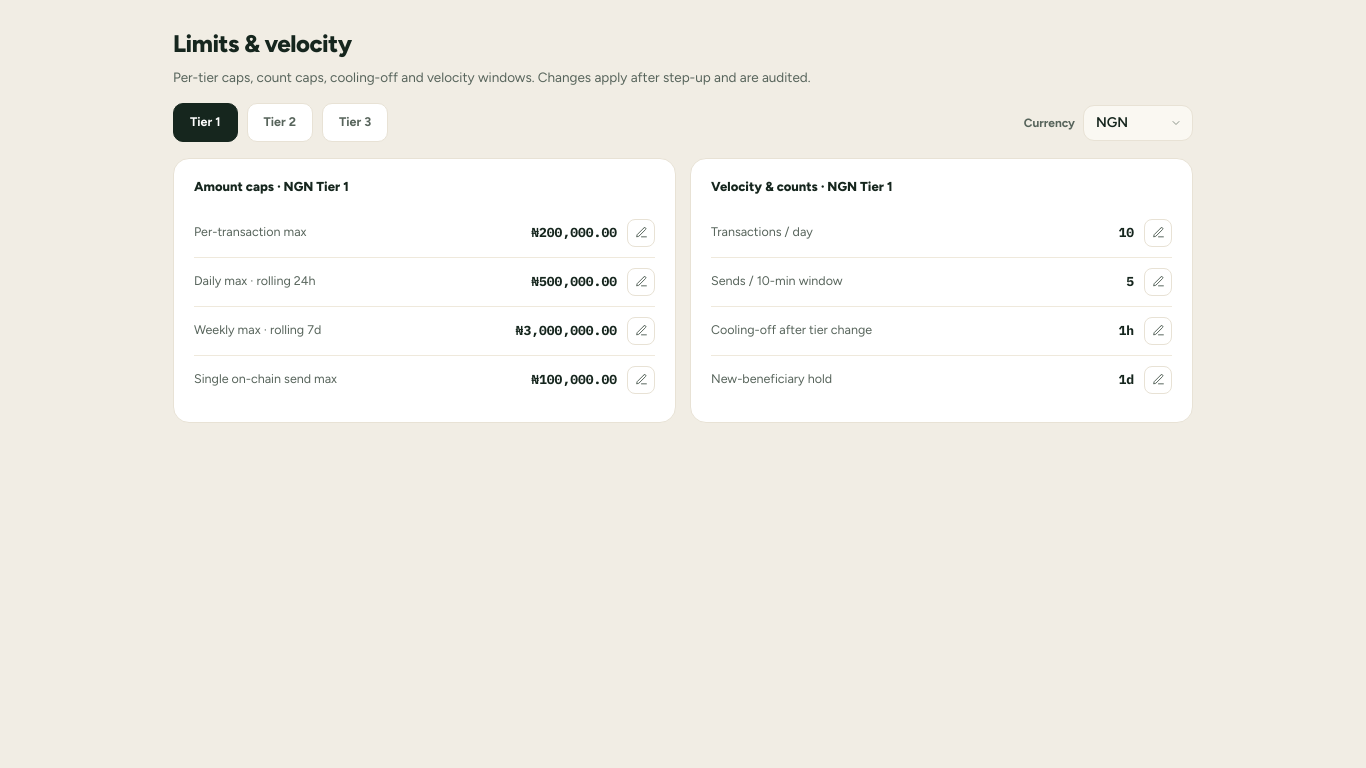
Test: LimitsPage (four-eyes tier_override) › raises a tier_override ChangeRequest (not a direct setSetting) when submitted
Click the button named "Edit Per-transaction max" at (641, 232), box [627,218,655,246]
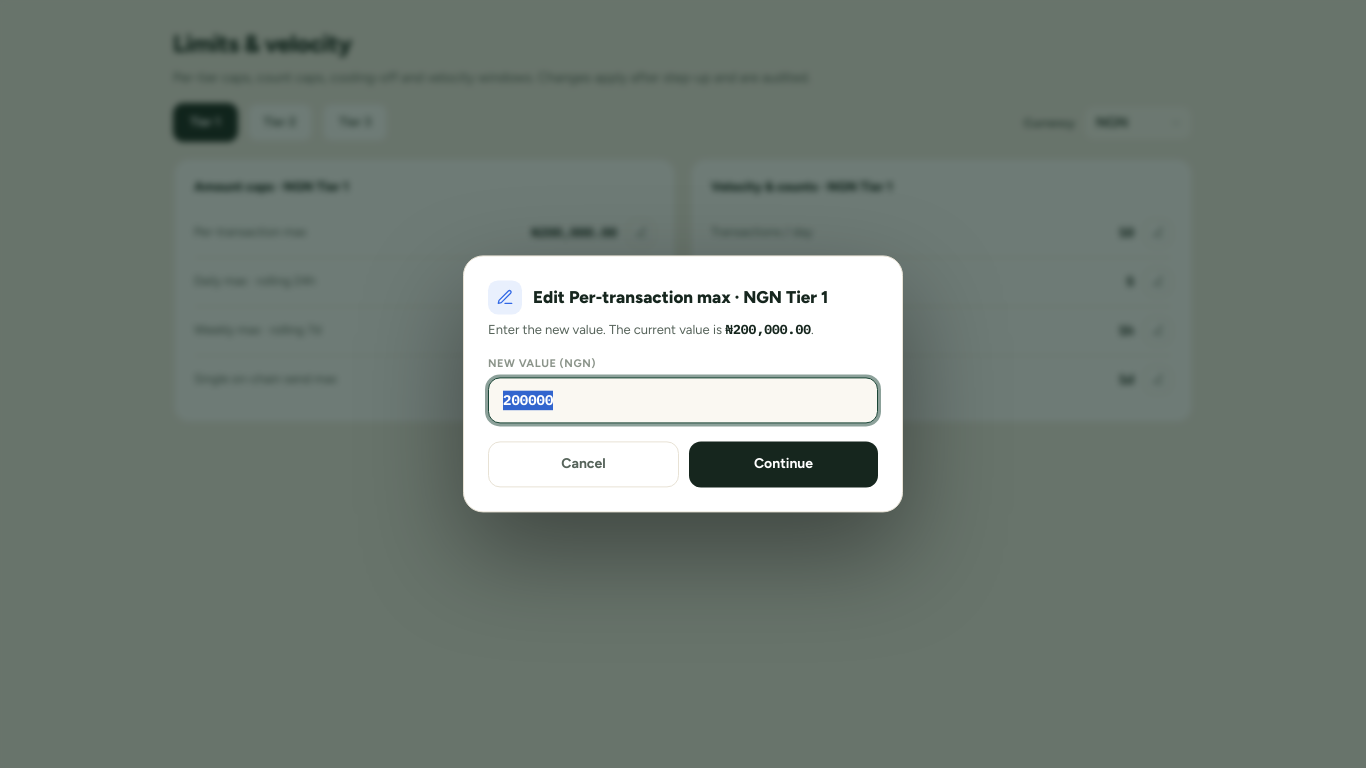
Replace the text in the field labelled "New value (NGN)" with "300000" at (683, 401), box [488,378,878,424]
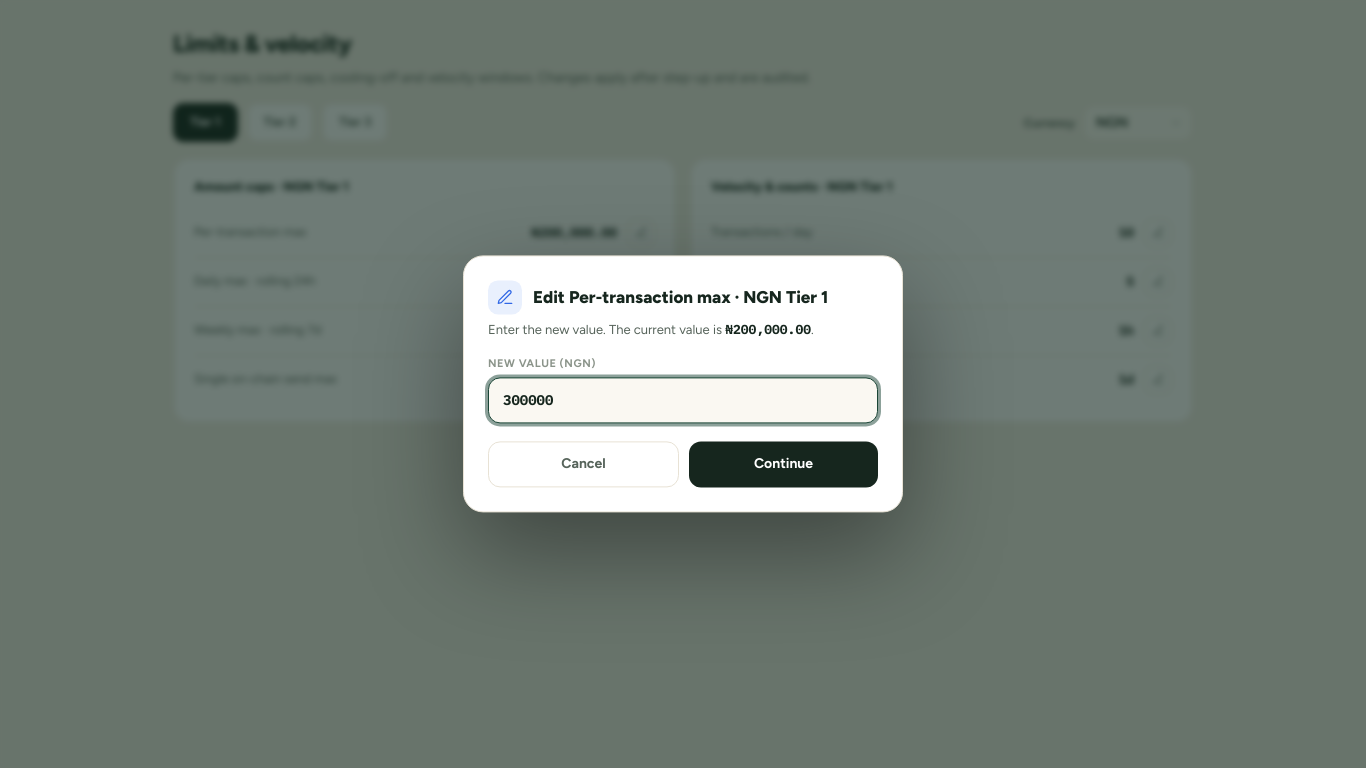
Click the button "Continue" at (784, 465), box [689,442,878,488]
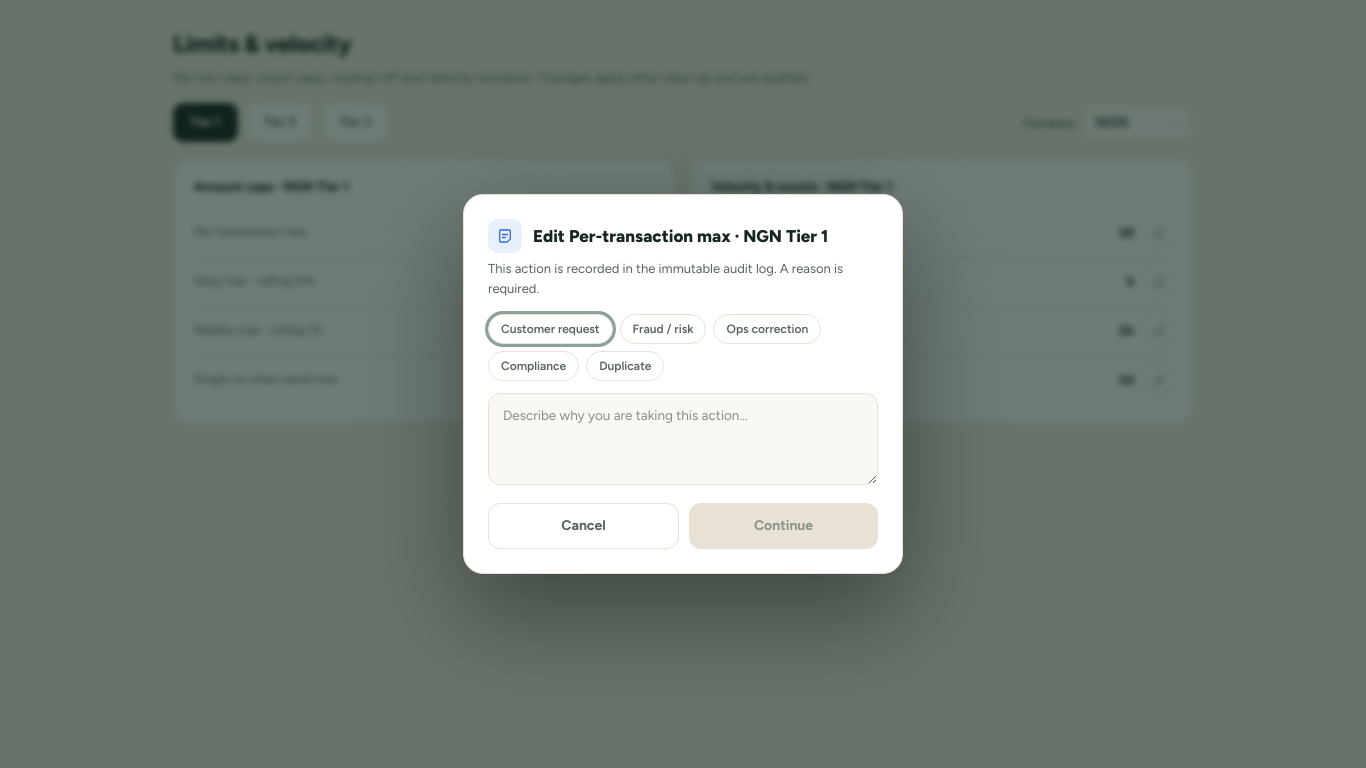
Type "Ops correction" into the text box named "Reason" at (683, 439), box [488,393,878,485]
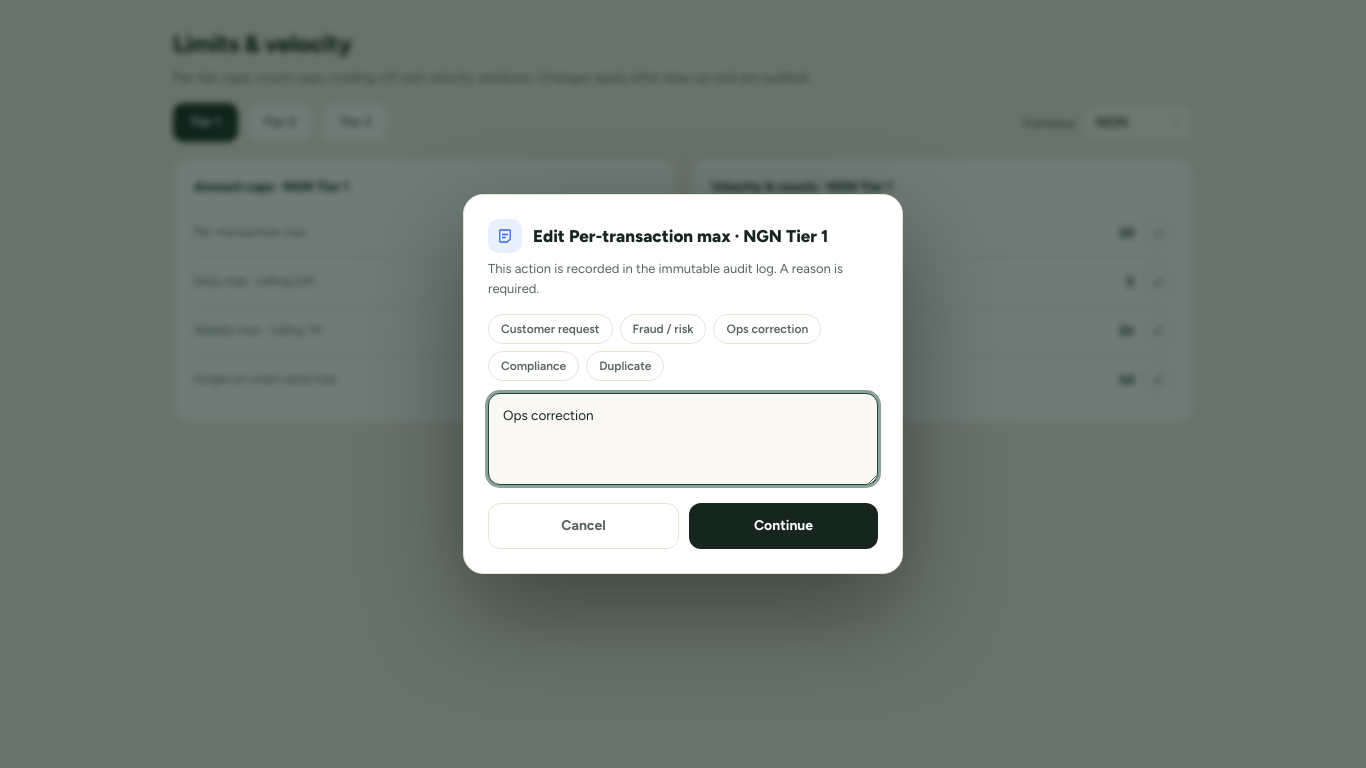
Click the button "Continue" at (784, 526), box [689,503,878,549]
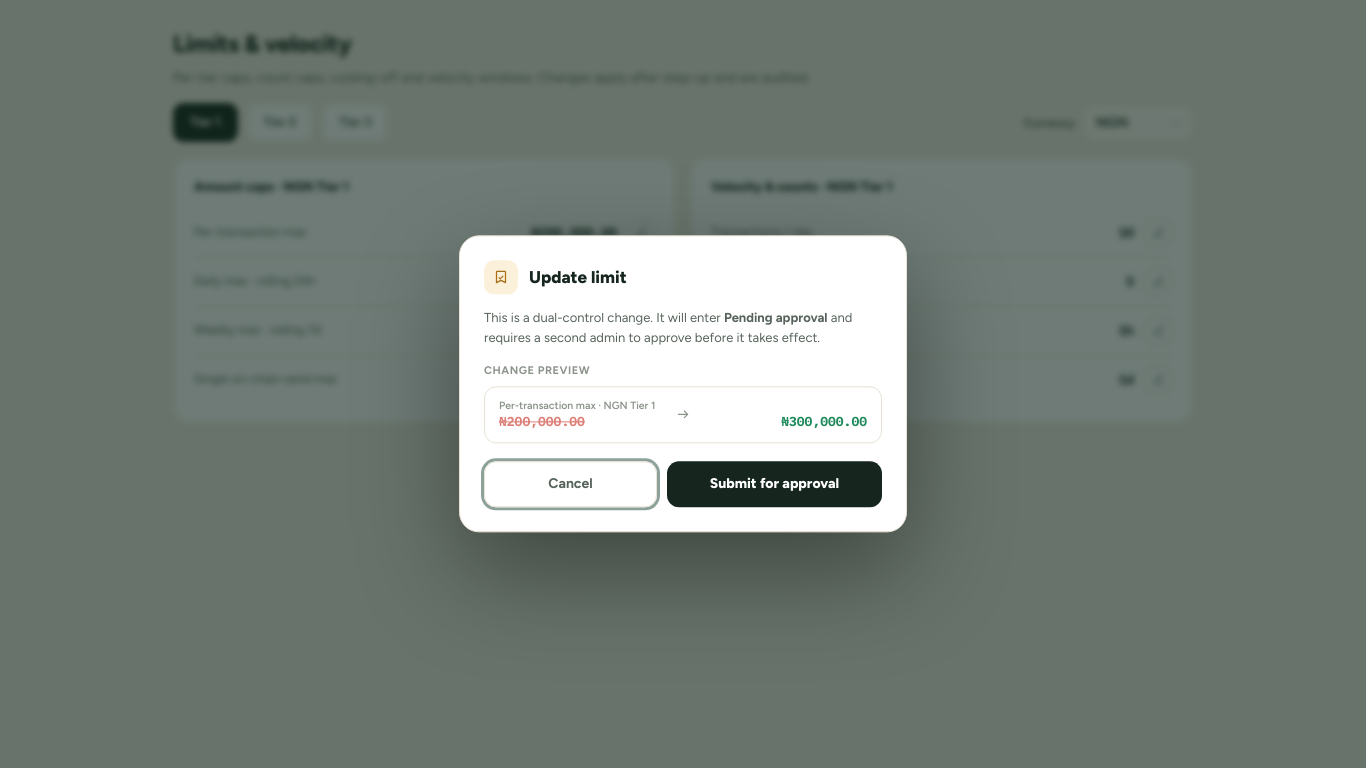
Click the button "Submit for approval" at (774, 485), box [667,462,882,508]
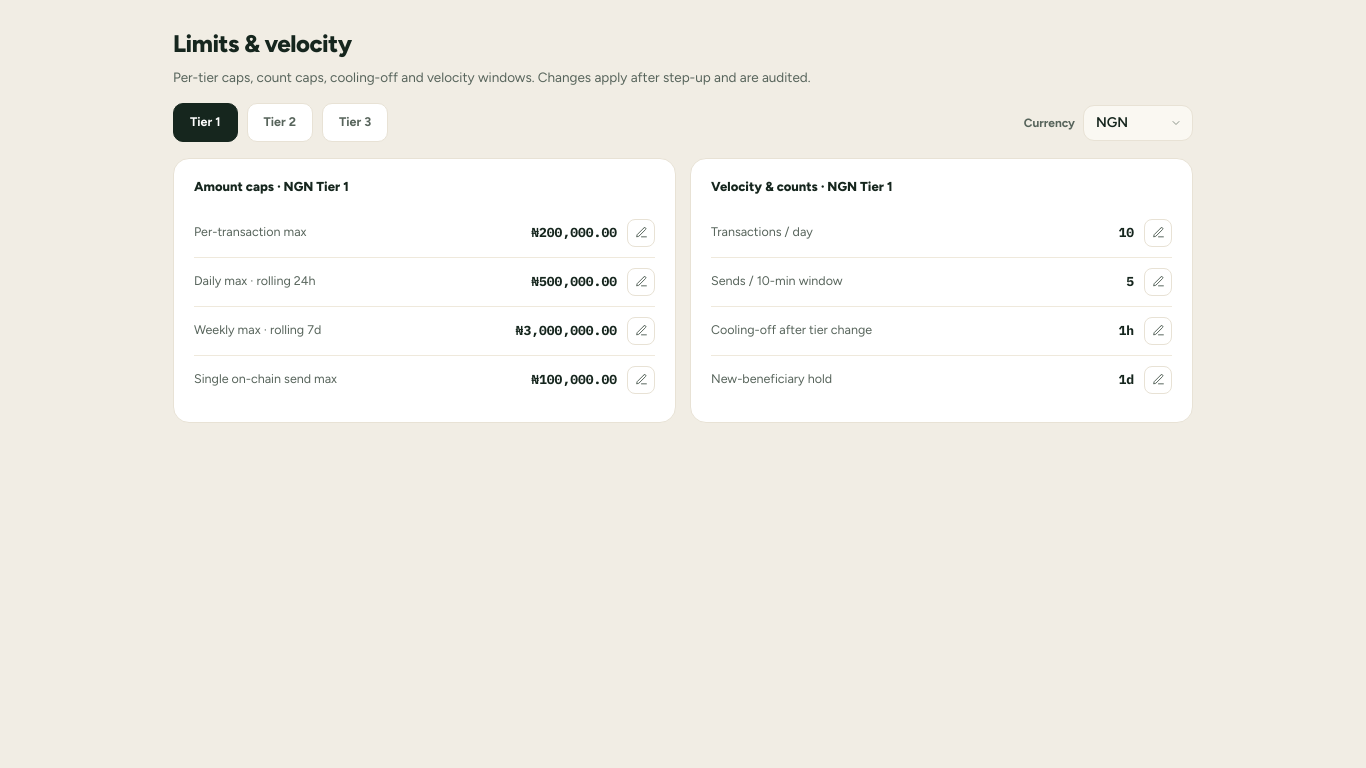
Result: the dialog is gone
